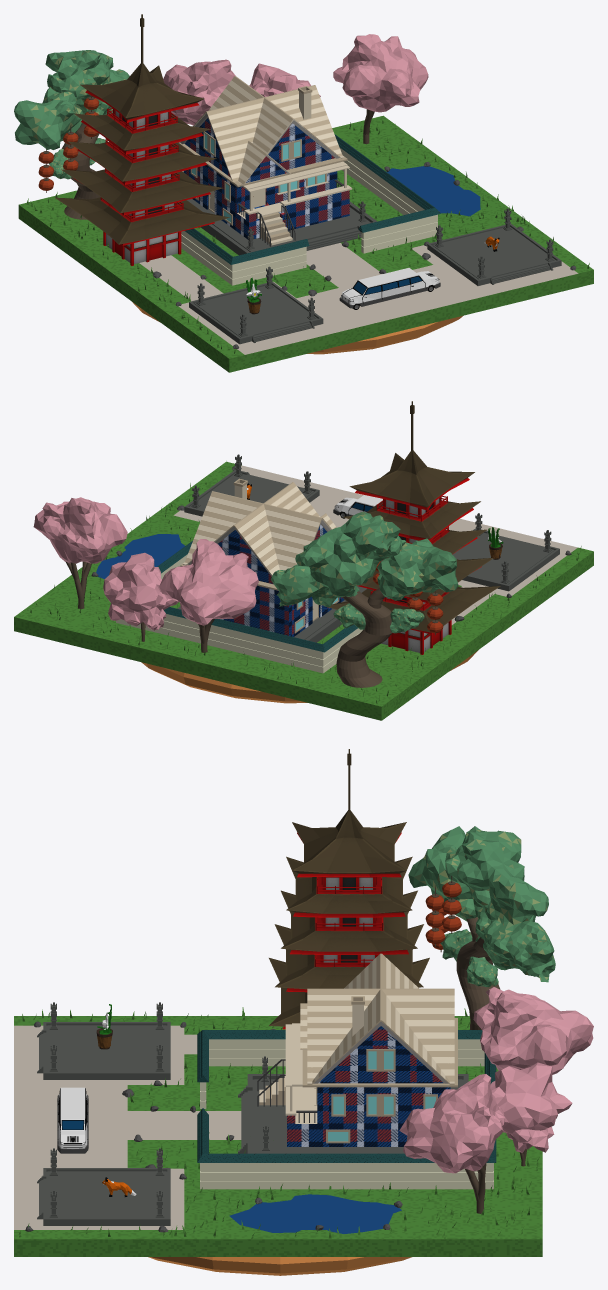
3 renders of one model, top to bottom at view 1: azimuth 30°, elevation 25°; view 2: azimuth 150°, elevation 25°; view 3: azimuth 270°, elevation 25°, orthographic. The views are drawn at different scales.
Parts seen in each view (by area): view 1: Cube.005, Cube.171, VEHICLES_LIMOUSINE, UNDERGROUND_PIZZA; view 2: Cube.005, Cube.171, UNDERGROUND_PIZZA, VEHICLES_LIMOUSINE; view 3: Cube.005, Cube.171, UNDERGROUND_PIZZA, VEHICLES_LIMOUSINE.
Part boxes in pixels (x1,y1,x2,y2): Cube.005: [14, 14, 593, 372]; Cube.171: [177, 76, 352, 246]; VEHICLES_LIMOUSINE: [339, 268, 440, 309]; UNDERGROUND_PIZZA: [132, 302, 463, 354]; Cube.005: [14, 401, 593, 720]; Cube.171: [180, 478, 344, 636]; UNDERGROUND_PIZZA: [141, 650, 478, 703]; VEHICLES_LIMOUSINE: [333, 495, 382, 518]; Cube.005: [14, 749, 593, 1256]; Cube.171: [257, 953, 457, 1146]; UNDERGROUND_PIZZA: [148, 1257, 411, 1275]; VEHICLES_LIMOUSINE: [57, 1087, 88, 1153].
Size of the model in its own units: 4528 by 2902 by 4389.
Materials: 44 (6 with a texture image).
